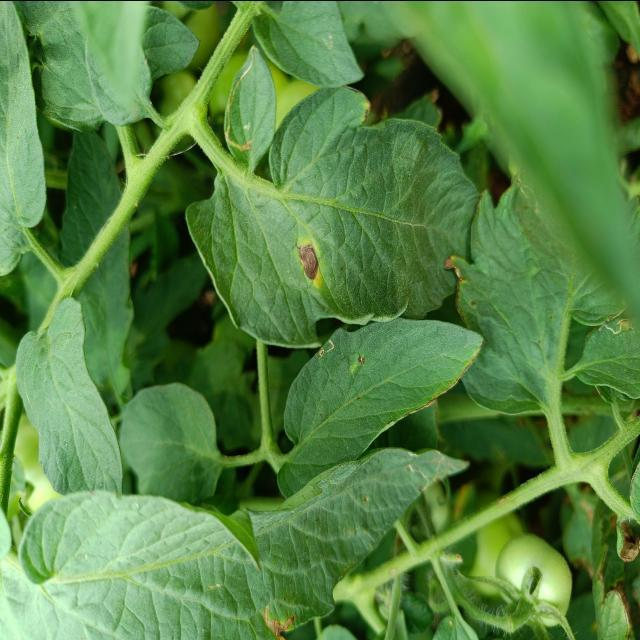Tomato mosaic virus leaf: (267, 81, 479, 328)
